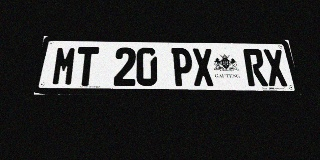0: (136, 47, 157, 86)
2: (113, 47, 136, 86)
M: (51, 46, 78, 86)
P: (171, 48, 193, 86)
R: (243, 49, 268, 86)
T: (74, 47, 99, 86)
X: (262, 49, 289, 86), (192, 48, 215, 86)
